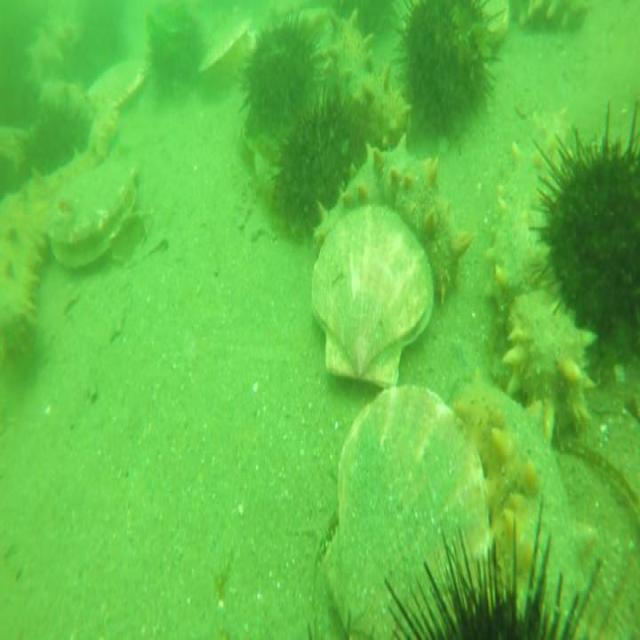echinus: (532, 106, 640, 360), (386, 515, 592, 640), (388, 2, 504, 156), (272, 93, 368, 229), (241, 10, 319, 142), (14, 98, 92, 185), (145, 0, 205, 100), (61, 7, 129, 88), (1, 68, 43, 137)
holothurian: (484, 102, 596, 434), (455, 371, 595, 632), (323, 136, 468, 300), (319, 5, 408, 150), (1, 186, 52, 358), (29, 6, 81, 100), (498, 0, 594, 43)
scallop: (312, 379, 492, 640), (310, 196, 436, 389), (54, 158, 140, 280), (198, 19, 262, 87), (81, 55, 148, 111)
